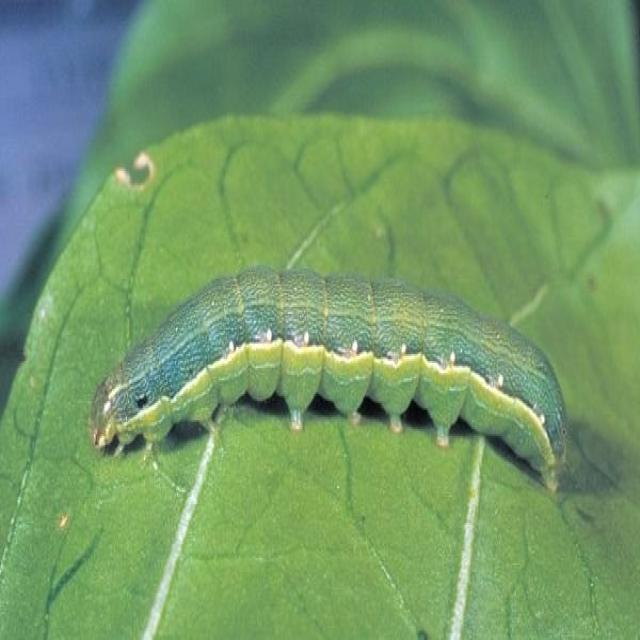armyworm: (86, 262, 574, 497)
